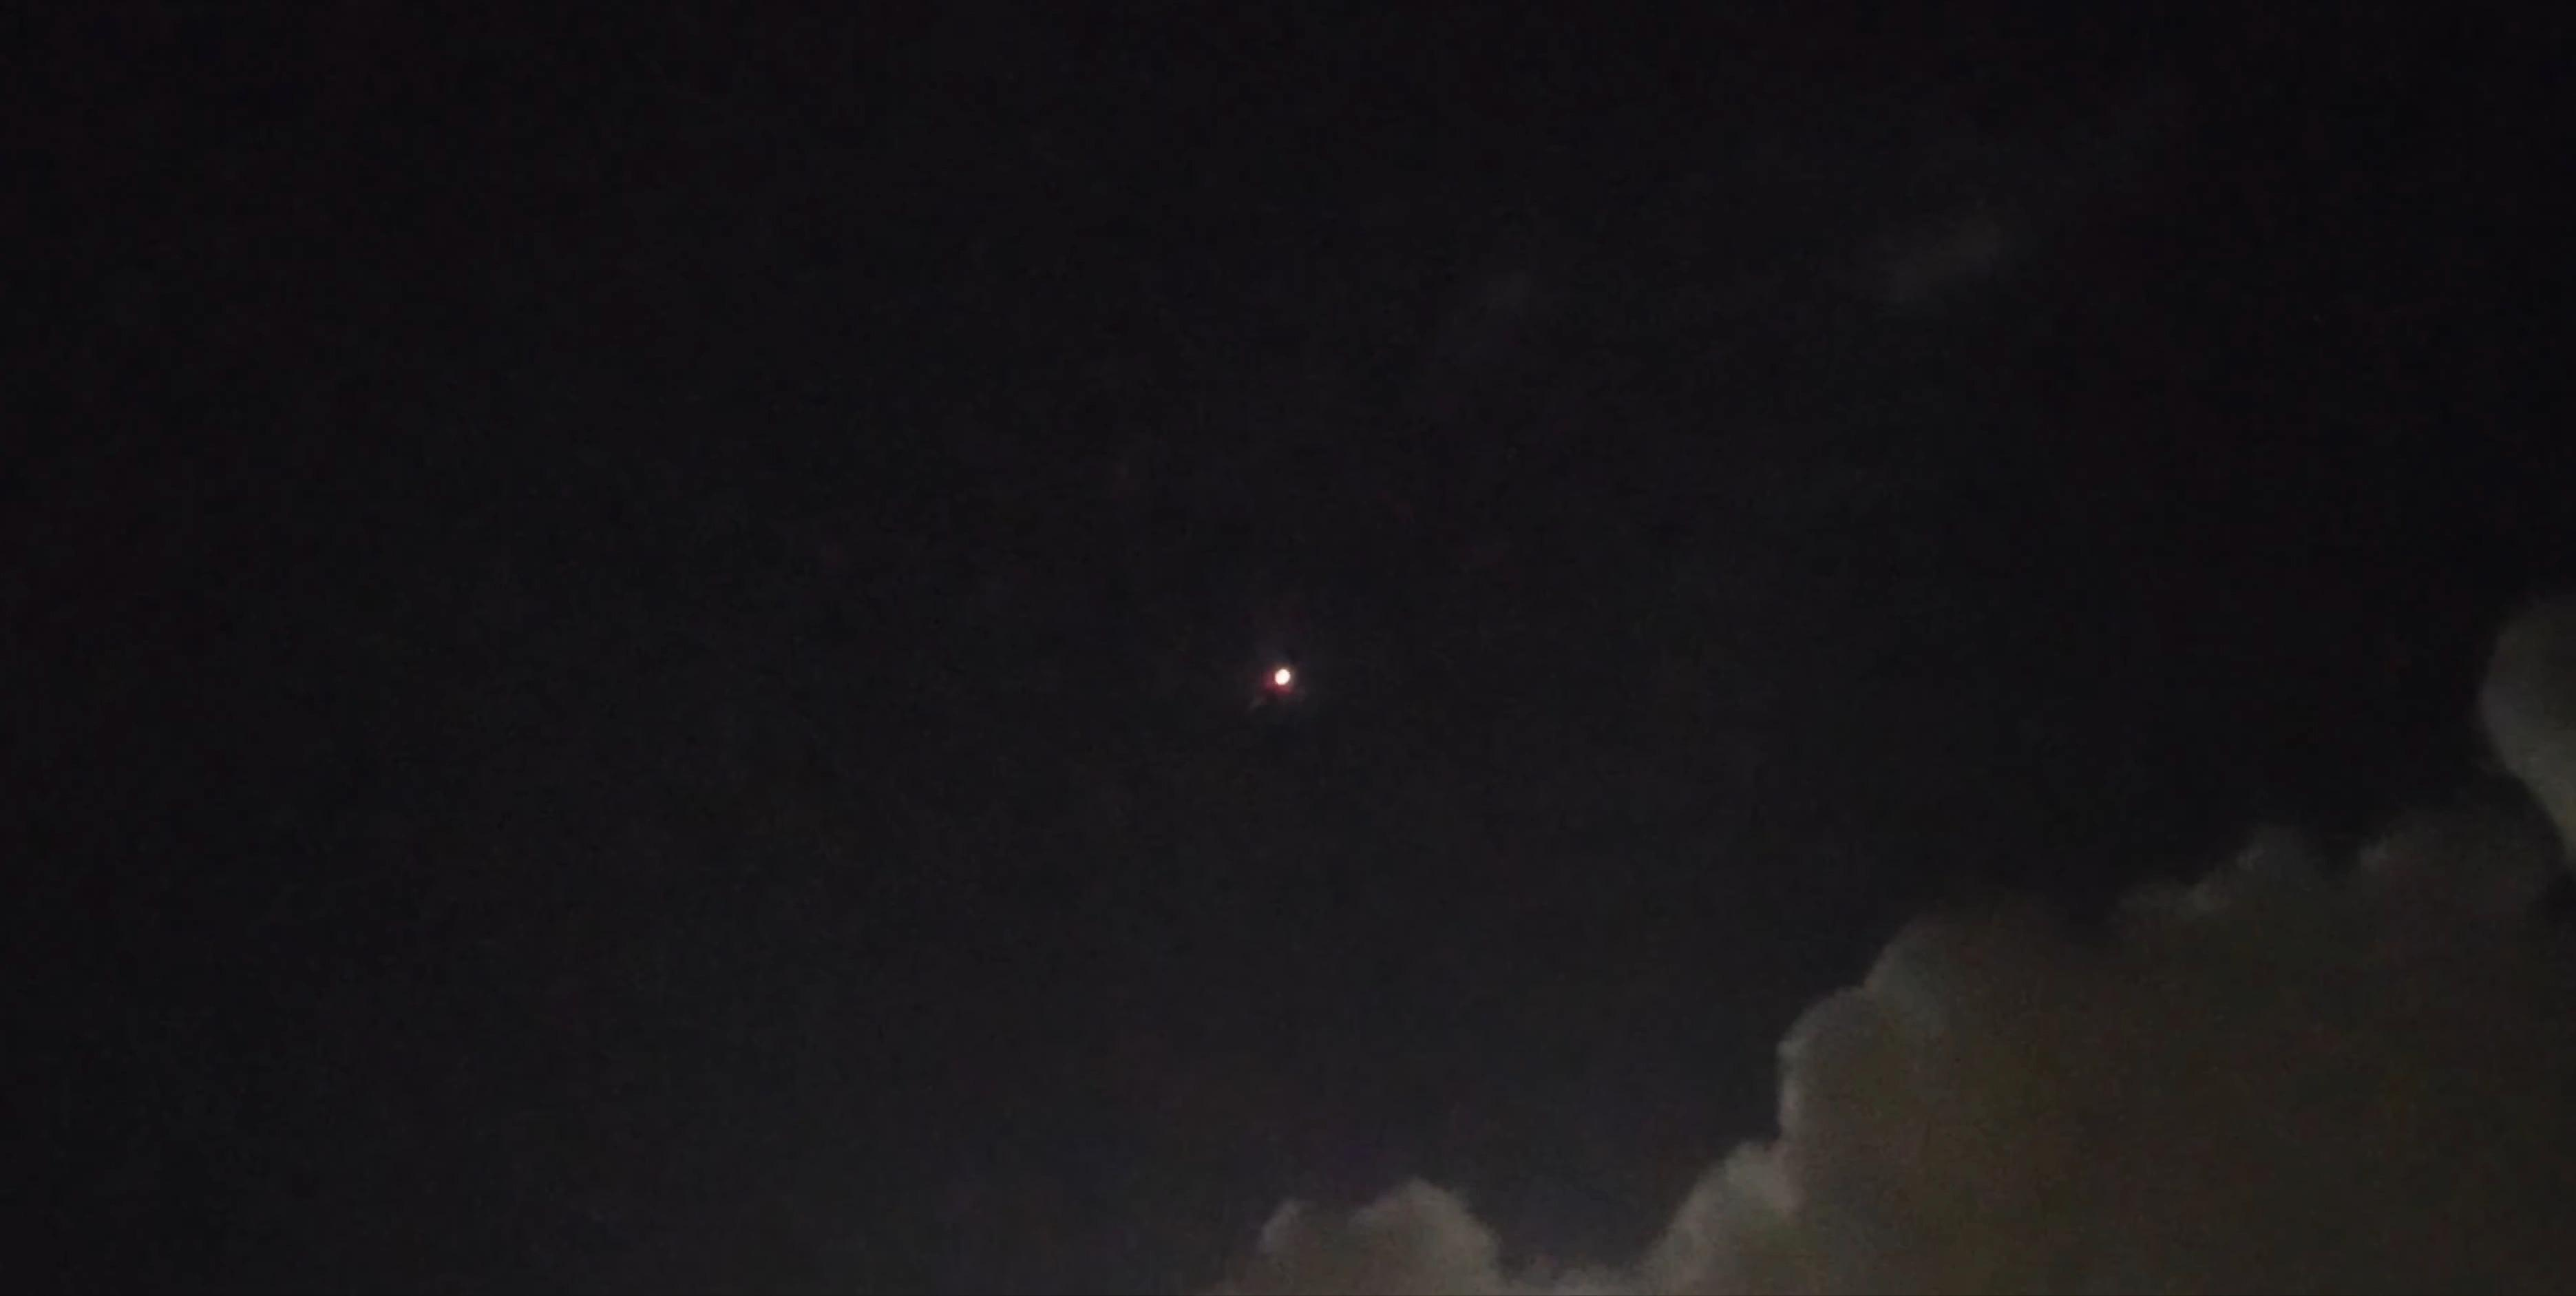Plane: (1198, 627, 1365, 734)
